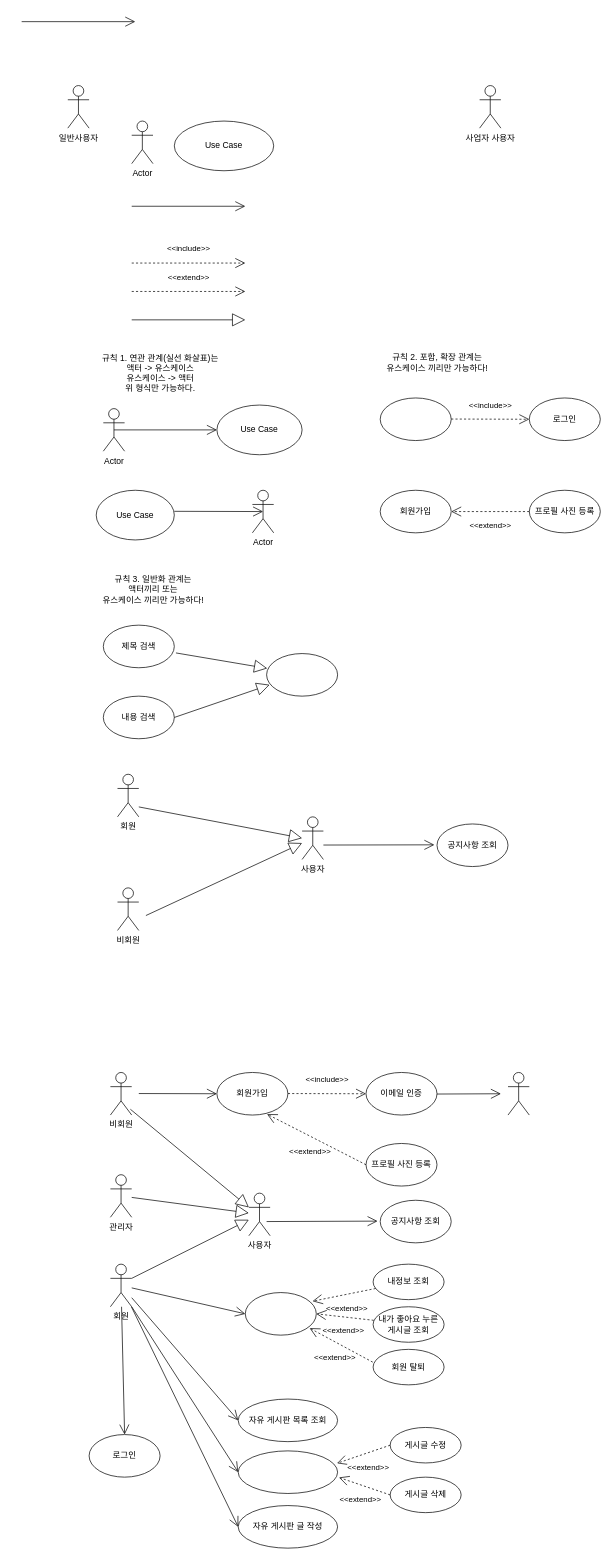
Some shapes in this 613 by 1561 pixel diagram are drawn without their labels. Here are the shapes that lost their labels. From the top down, the centre of each, then its label:
At pixel 415 419: "내 정보 조회".
At pixel 302 674: "게시글 검색".
At pixel 518 1093: "Gmail 서버".
At pixel 280 1313: "마이페이지".
At pixel 287 1471: "자유 게시판 상세 조회".
